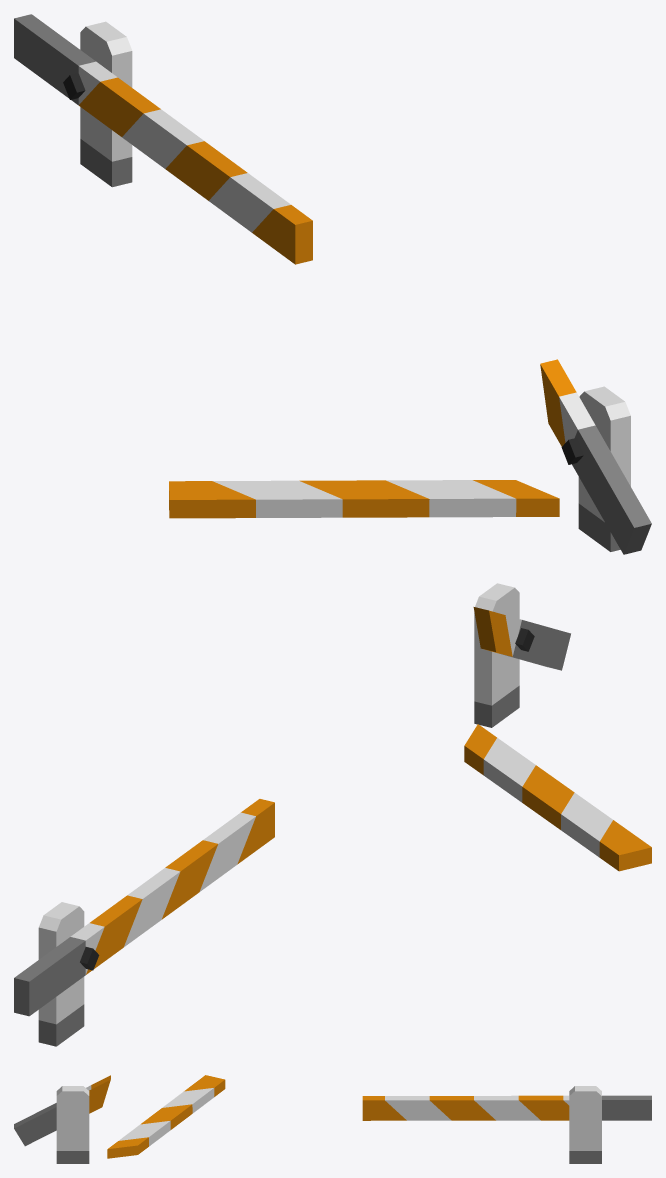
The model's file is barrier.fbx.
The picture shows the model from 3 angles, top to bottom: view 1: azimuth 30°, elevation 25°; view 2: azimuth 150°, elevation 25°; view 3: azimuth 270°, elevation 25°; orthographic projection. The views are drawn at different scales.
Visible parts, largest first — view 1: barrier (×2); view 2: barrier (×2); view 3: barrier (×2).
Part boxes in pixels (box(x1,y1,x2,y2)): barrier (×2): box(14, 14, 651, 554); barrier (×2): box(14, 583, 651, 1046); barrier (×2): box(14, 1075, 651, 1163).
Size of the model in its own units: 404 by 188 by 1370.
